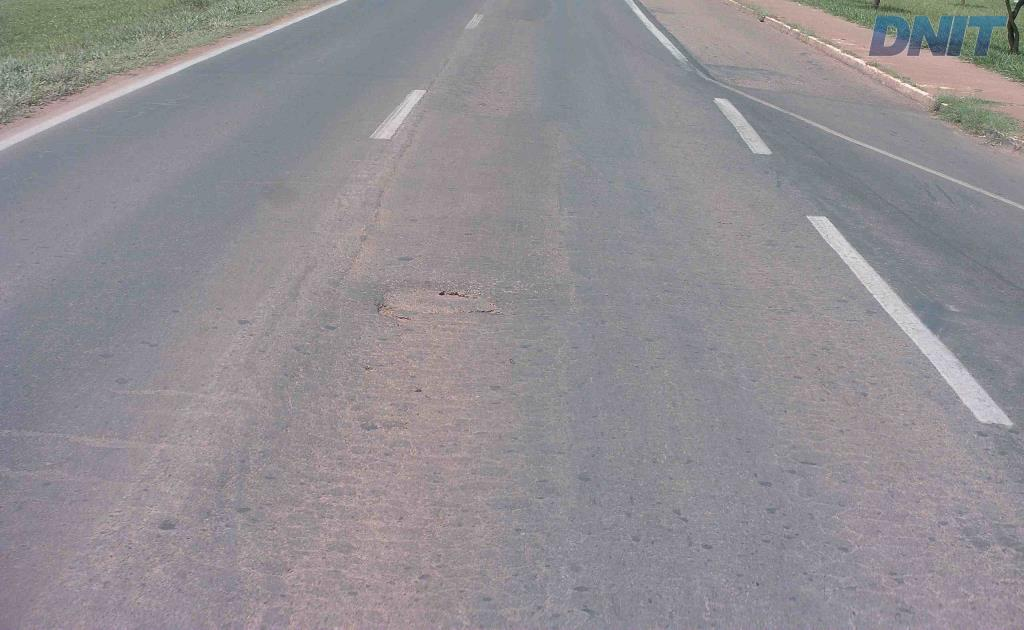pothole: (368, 278, 502, 322)
